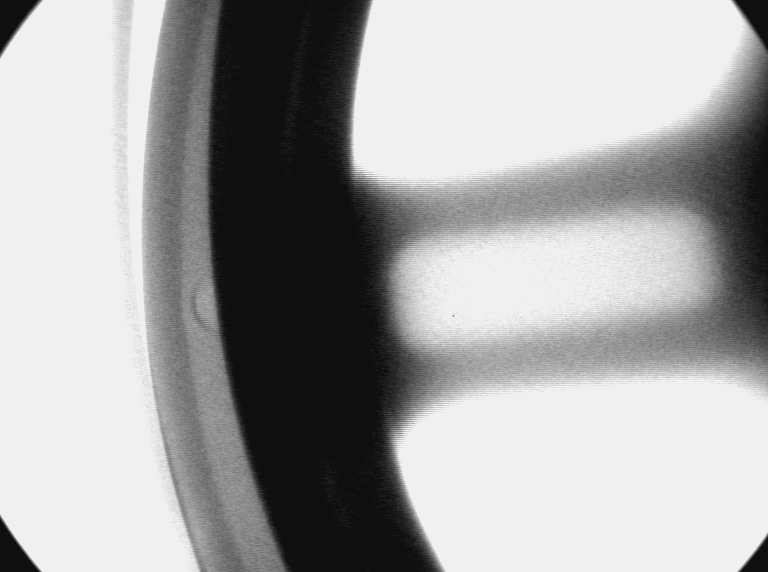defect: (189, 271, 229, 331)
